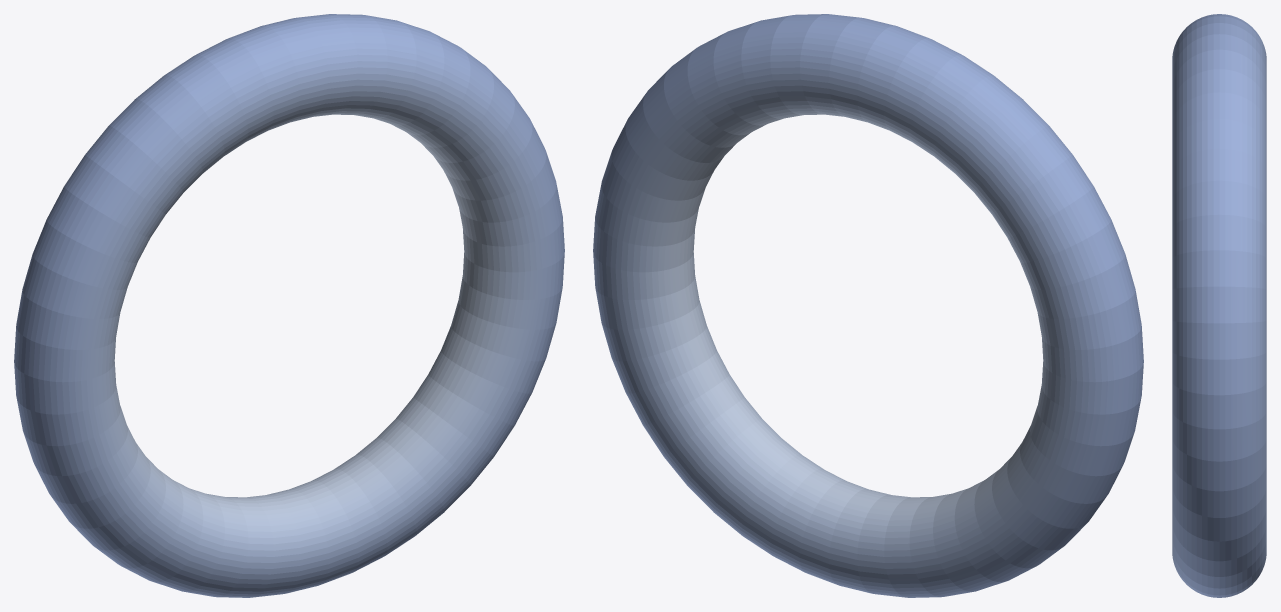
3 views of the same model, side by side, from view 1: azimuth 30°, elevation 25°; view 2: azimuth 150°, elevation 25°; view 3: azimuth 270°, elevation 25° (orthographic). The views are drawn at different scales.
Visible parts, largest first — view 1: world; view 2: world; view 3: world.
Boxes of the visible parts, <box> form: world: <box>14,14,564,597</box>; world: <box>593,14,1143,597</box>; world: <box>1172,14,1266,597</box>.
Size of the model in its own units: 25.47 by 25.42 by 4.13.
